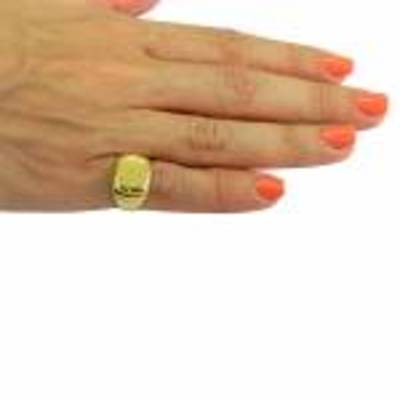mindinho: (75, 156, 298, 232)
